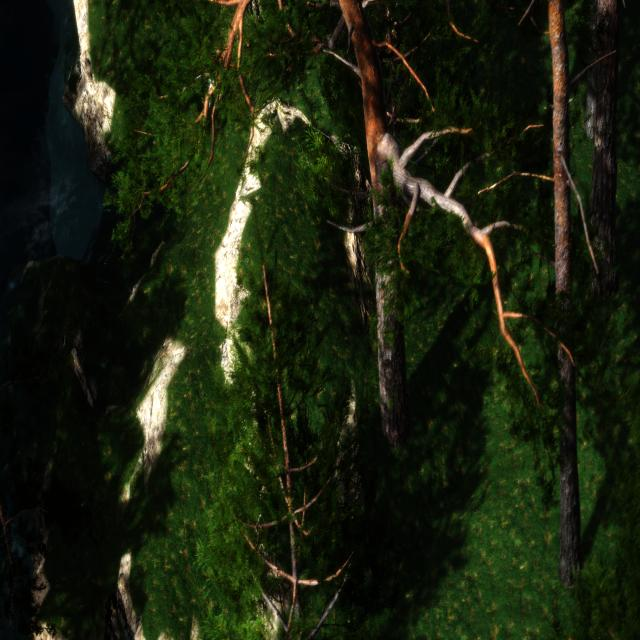Human: (191, 32, 228, 124)
